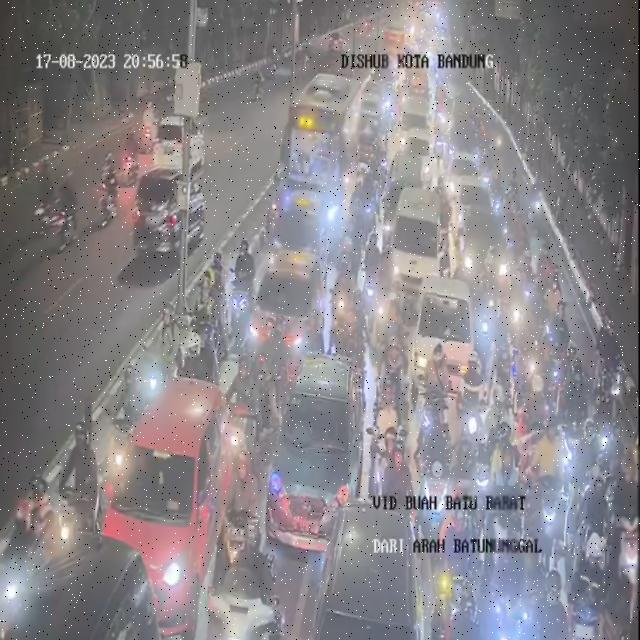bus: (280, 81, 366, 234)
cars: (102, 388, 245, 622), (267, 344, 352, 552), (0, 542, 167, 640), (325, 496, 414, 640), (250, 238, 320, 360), (410, 269, 476, 393), (390, 182, 437, 310), (456, 206, 507, 292), (387, 137, 418, 206), (444, 178, 488, 221), (400, 139, 434, 179), (361, 84, 385, 138), (441, 155, 478, 185), (404, 94, 432, 131)
motorcycle: (201, 515, 276, 640), (0, 477, 59, 596), (436, 502, 479, 640), (610, 446, 640, 611), (490, 486, 520, 631), (222, 357, 262, 463), (532, 412, 562, 544), (411, 404, 443, 524), (59, 421, 95, 522), (376, 422, 416, 512), (598, 306, 628, 426), (517, 361, 554, 450), (567, 402, 610, 474), (416, 342, 447, 440), (470, 236, 498, 334), (262, 316, 293, 404), (580, 532, 605, 640), (330, 246, 357, 345), (150, 288, 178, 380), (535, 569, 571, 635), (581, 455, 606, 550), (178, 316, 215, 380), (383, 331, 408, 425), (368, 256, 394, 346), (228, 238, 252, 335), (229, 452, 254, 542), (558, 335, 589, 403), (452, 434, 477, 518), (118, 342, 140, 433), (344, 298, 369, 366), (198, 258, 218, 335), (492, 420, 515, 486), (374, 370, 395, 440), (511, 280, 533, 346), (344, 166, 364, 238), (528, 178, 550, 242), (487, 347, 509, 408), (485, 119, 513, 166), (532, 237, 553, 293), (556, 300, 580, 346), (363, 230, 376, 302), (508, 213, 526, 261), (437, 86, 453, 128), (504, 172, 521, 210), (363, 177, 375, 228), (545, 268, 559, 311), (370, 154, 383, 191), (355, 146, 371, 165)
truck: (382, 17, 404, 72)
